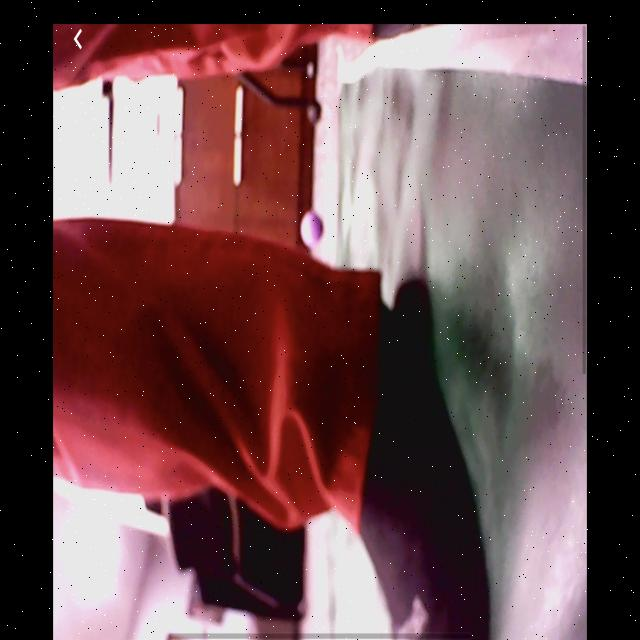ball: (301, 212, 325, 247)
